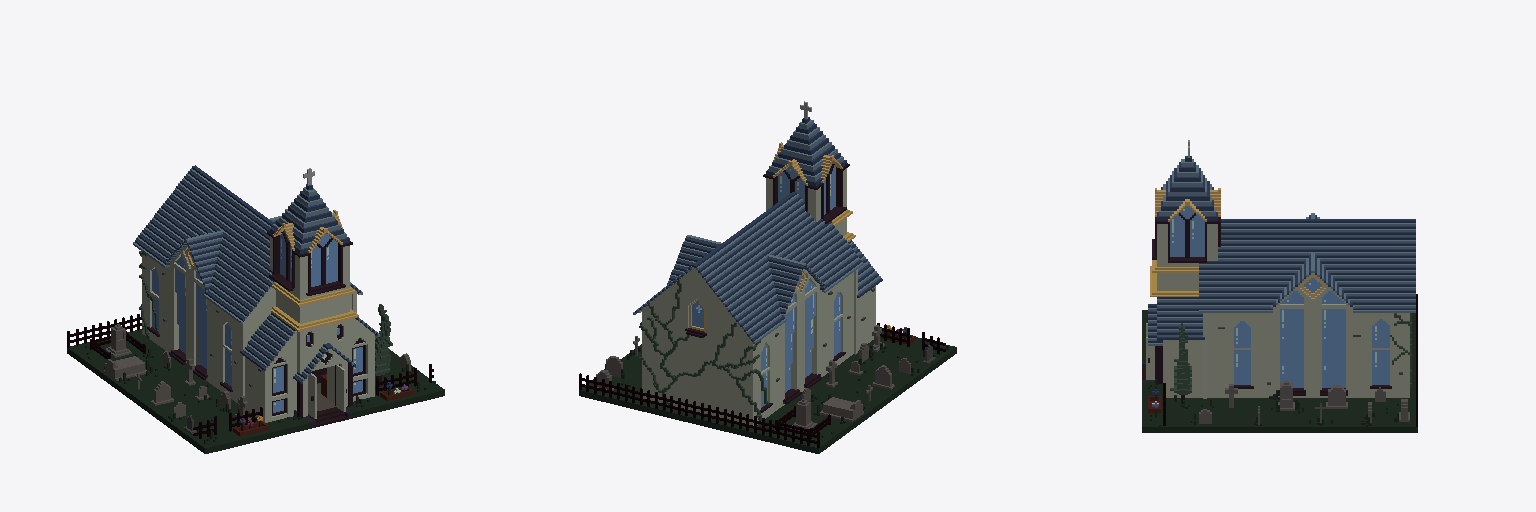
3 views of the same model, side by side, from view 1: azimuth 30°, elevation 25°; view 2: azimuth 150°, elevation 25°; view 3: azimuth 270°, elevation 25° (orthographic).
Size of the model in its own units: 126 by 119 by 126.
1 materials, 1 textured.